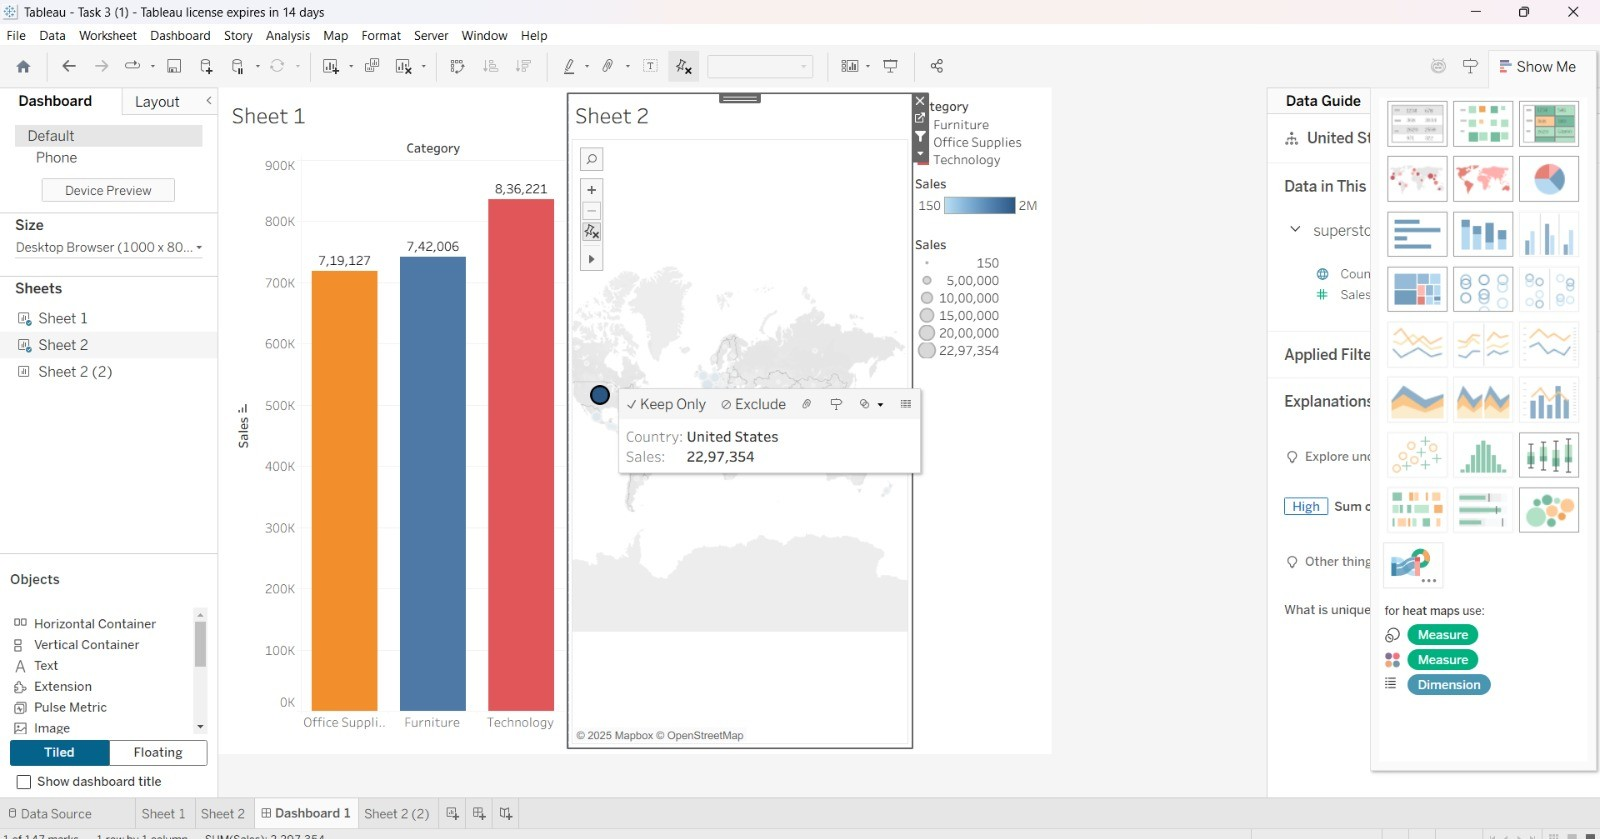

The page's visual inventory and layout, read from the dashboard file:
{"tool":"tableau","page":{"name":"Dashboard 1","canvas":[1000,800],"ordinal":0},"visuals":[{"type":"worksheet","title":"Sheet 1","mark":"Bar","rows":["Sales"],"cols":["Category"],"box":[8,8,412,784]},{"type":"worksheet","title":"Sheet 2","mark":"Automatic","box":[420,8,412,784]},{"type":"legend","title":"Sheet 1","param":"[federated.1egum2j16321xq18hqubo1755sld].[none:Category:nk]","box":[832,8,160,93]},{"type":"legend","title":"Sheet 2","param":"[federated.1egum2j16321xq18hqubo1755sld].[sum:Sales:qk]","box":[832,101,160,73]},{"type":"legend","title":"Sheet 2","param":"[federated.1egum2j16321xq18hqubo1755sld].[sum:Sales:qk]","box":[832,174,160,135]}]}

Visuals, with their boxes on the page's 1000x800 design canvas (x1, y1, x2, y2). These are canvas units, not pixel positions in the 1600x839 screenshot, which may show the page scaled, cropped or inside an application window:
"Sheet 1" worksheet (Bar marks): bbox=(8, 8, 420, 792)
"Sheet 2" worksheet: bbox=(420, 8, 832, 792)
"Sheet 1" legend: bbox=(832, 8, 992, 101)
"Sheet 2" legend: bbox=(832, 101, 992, 174)
"Sheet 2" legend: bbox=(832, 174, 992, 309)
